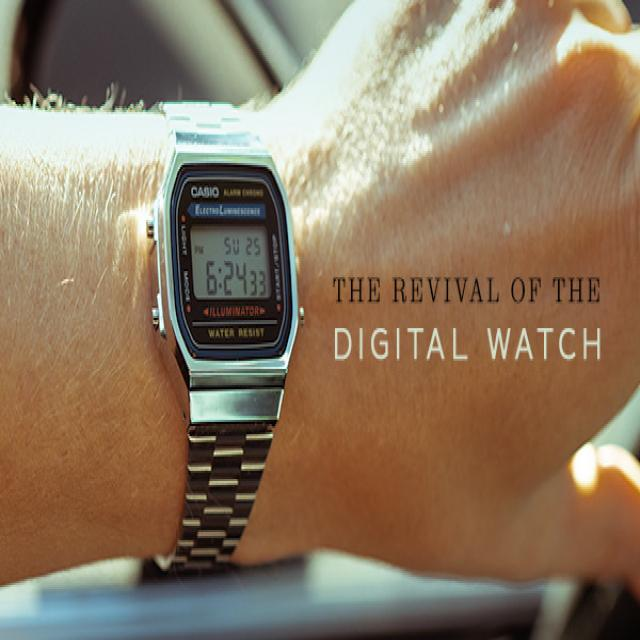watch: (176, 157, 288, 370)
